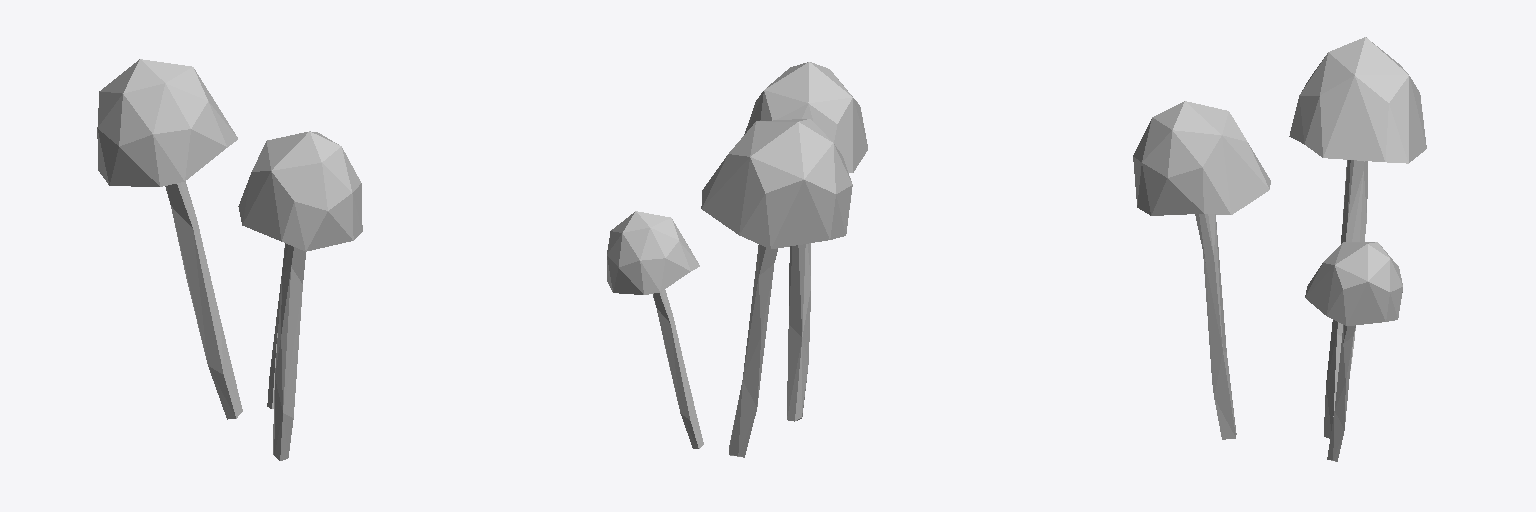
Rendered from mushroom17.obj.
The picture shows the model from 3 angles: view 1: azimuth 30°, elevation 25°; view 2: azimuth 150°, elevation 25°; view 3: azimuth 270°, elevation 25°; orthographic projection.
Visible parts, largest first — view 1: Mushroom1_2_Cube.031; view 2: Mushroom1_2_Cube.031; view 3: Mushroom1_2_Cube.031.
Part boxes in pixels (bbox=[...]): Mushroom1_2_Cube.031: bbox=[97, 59, 362, 460]; Mushroom1_2_Cube.031: bbox=[607, 62, 867, 457]; Mushroom1_2_Cube.031: bbox=[1133, 37, 1426, 461].
Bounding box in the file's own units: 0.4434 × 0.6859 × 0.4979.